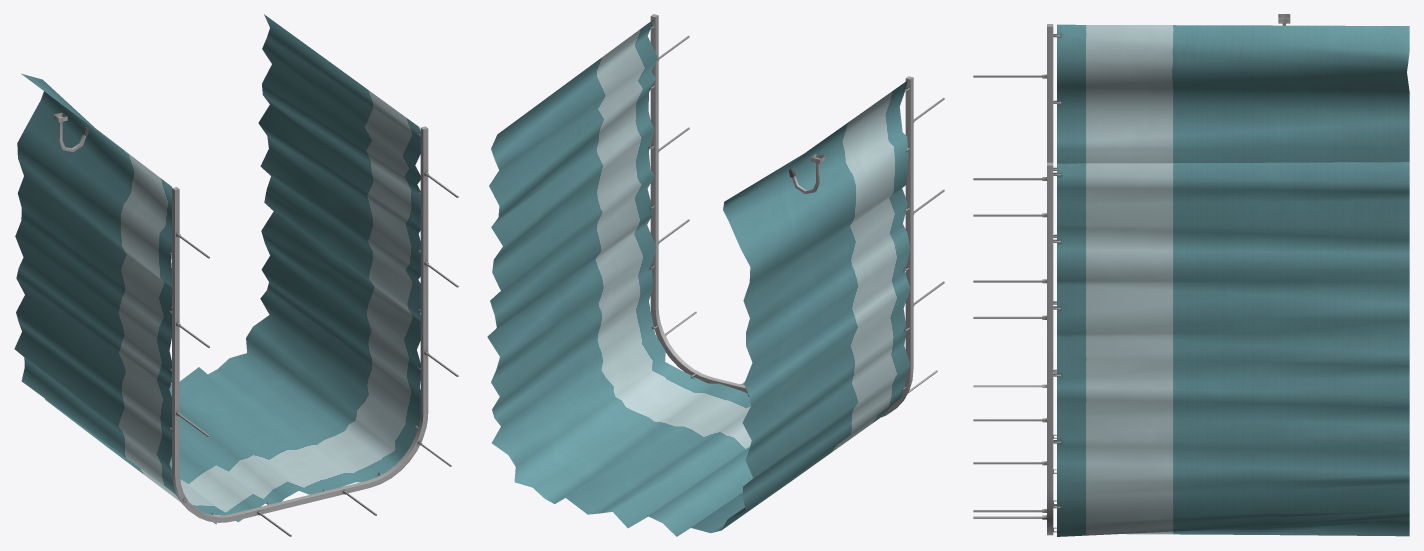
The model's file is aws_robomaker_hospital_curtain_closed_01_collision.dae.
3 renders of one model, left to right at view 1: azimuth 30°, elevation 25°; view 2: azimuth 150°, elevation 25°; view 3: azimuth 270°, elevation 25°, orthographic. The views are drawn at different scales.
Parts seen in each view (by area): view 1: aws_robomaker_hospital_curtain_closed_01_low, aws_robomaker_hospital_curtainrail_01_low; view 2: aws_robomaker_hospital_curtain_closed_01_low, aws_robomaker_hospital_curtainrail_01_low; view 3: aws_robomaker_hospital_curtain_closed_01_low, aws_robomaker_hospital_curtainrail_01_low.
Part boxes in pixels (box(x1,y1,x2,y2)): aws_robomaker_hospital_curtain_closed_01_low: box(14, 14, 420, 522); aws_robomaker_hospital_curtainrail_01_low: box(53, 112, 458, 536); aws_robomaker_hospital_curtain_closed_01_low: box(487, 19, 910, 536); aws_robomaker_hospital_curtainrail_01_low: box(650, 14, 944, 417); aws_robomaker_hospital_curtain_closed_01_low: box(1053, 24, 1409, 536); aws_robomaker_hospital_curtainrail_01_low: box(973, 14, 1290, 535).
Bounding box in the file's own units: 241 × 300 × 292.
2 materials, 2 textured.
